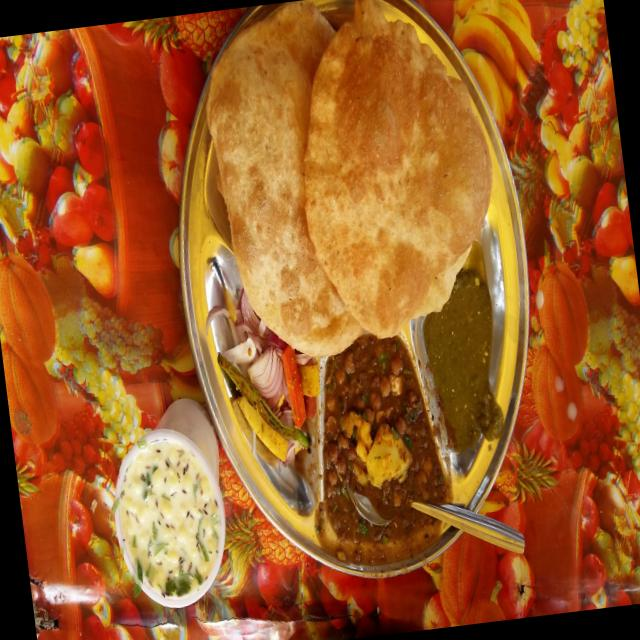Bhatura: (277, 0, 510, 348), (194, 0, 383, 367)
Chole: (312, 338, 444, 548)
